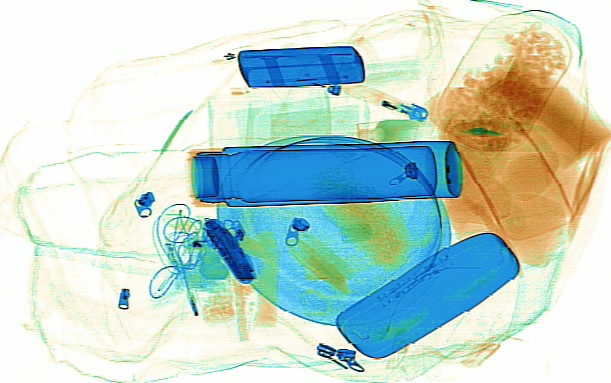knife: (203, 214, 253, 284)
lighter: (339, 73, 426, 120)
